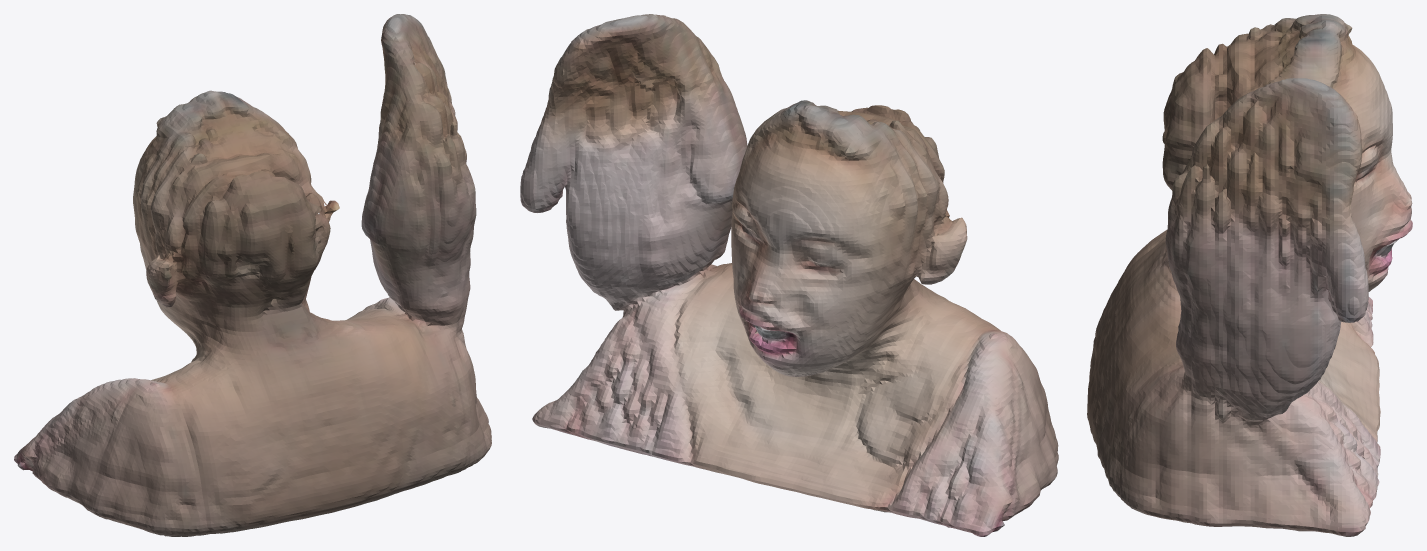
File: tmpywm74xif.glb
3 renders of one model, left to right at view 1: azimuth 30°, elevation 25°; view 2: azimuth 150°, elevation 25°; view 3: azimuth 270°, elevation 25°, orthographic. The views are drawn at different scales.
Parts seen in each view (by area): view 1: world; view 2: world; view 3: world.
Boxes of the visible parts, x1,y1,x2,y2 form: world: [14, 14, 491, 536]; world: [520, 14, 1058, 536]; world: [1087, 14, 1412, 536].
Size of the model in its own units: 0.9778 by 0.8236 by 0.5608.
